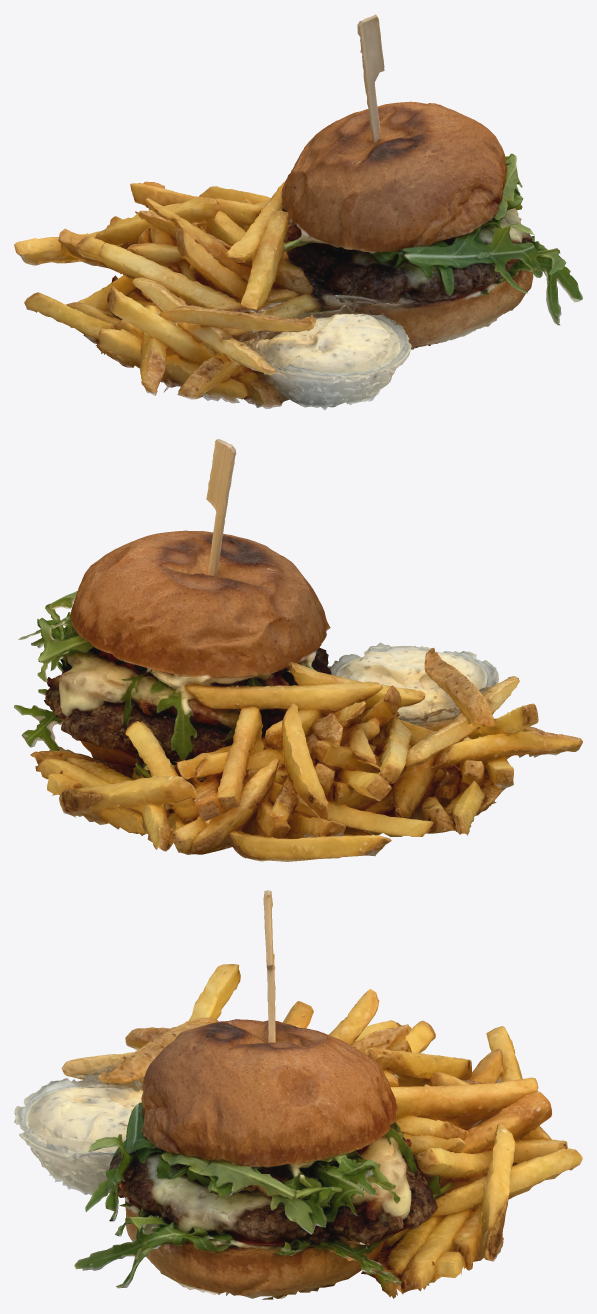
File: hamburger_3d_scan.glb
3 views of the same model, one above another, from view 1: azimuth 30°, elevation 25°; view 2: azimuth 150°, elevation 25°; view 3: azimuth 270°, elevation 25° (orthographic). The views are drawn at different scales.
Parts seen in each view (by area): view 1: Object_2; view 2: Object_2; view 3: Object_2.
Boxes of the visible parts, x1,y1,x2,y2 form: Object_2: (14,14,582,409); Object_2: (14,439,582,861); Object_2: (14,890,582,1299).
Size of the model in its own units: 4.44 by 2.99 by 4.25.
1 material, 1 textured.
